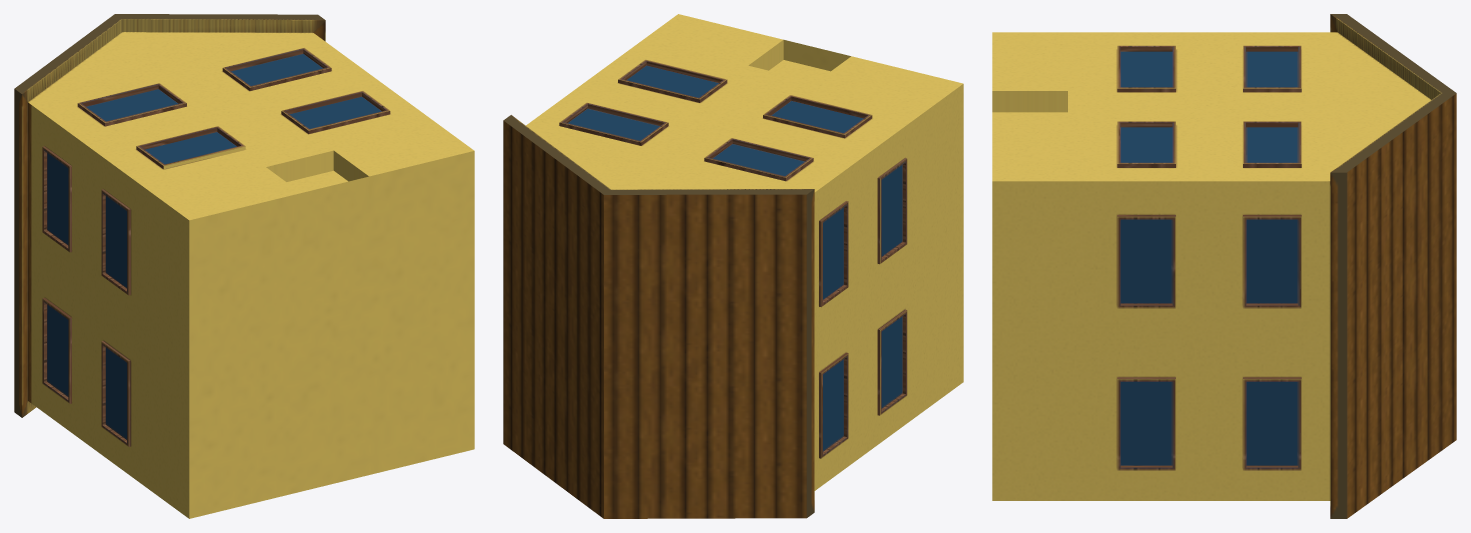
The model's file is house-06.fbx.
The picture shows the model from 3 angles, left to right: view 1: azimuth 30°, elevation 25°; view 2: azimuth 150°, elevation 25°; view 3: azimuth 270°, elevation 25°; orthographic projection. The views are drawn at different scales.
Parts seen in each view (by area): view 1: house-06; view 2: house-06; view 3: house-06.
Boxes of the visible parts, x1=… form: house-06: x1=14, y1=14, x2=474, y2=518; house-06: x1=503, y1=14, x2=963, y2=518; house-06: x1=992, y1=14, x2=1456, y2=518.
Bounding box in the file's own units: 4.49 × 4.57 × 5.55.
